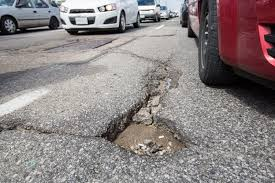pothole: (92, 87, 199, 174)
